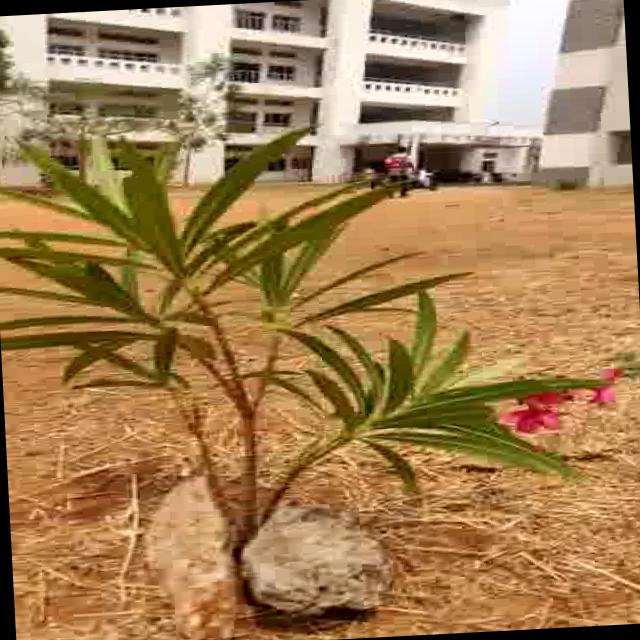Oleander: (33, 107, 636, 540)
